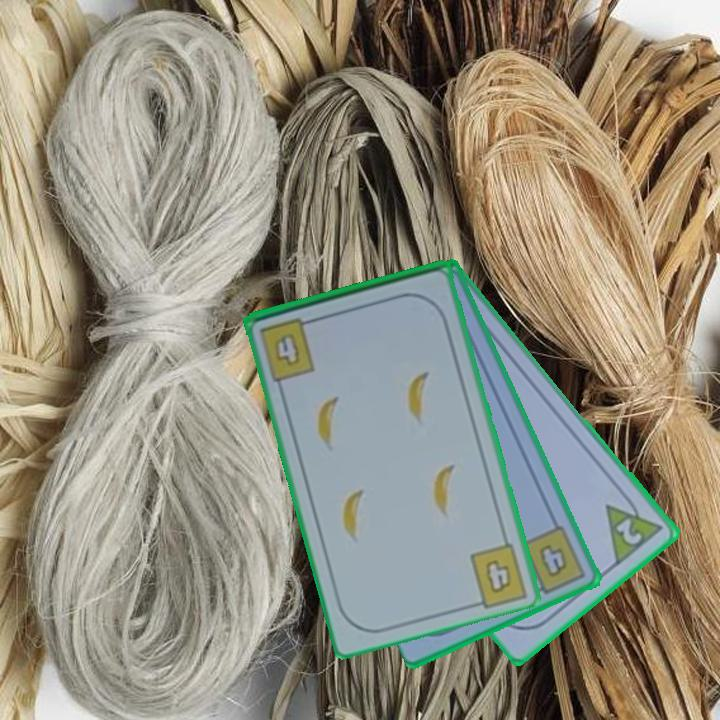2p: (602, 488, 667, 569)
4b: (519, 522, 589, 598), (256, 314, 320, 382), (482, 556, 515, 597)
